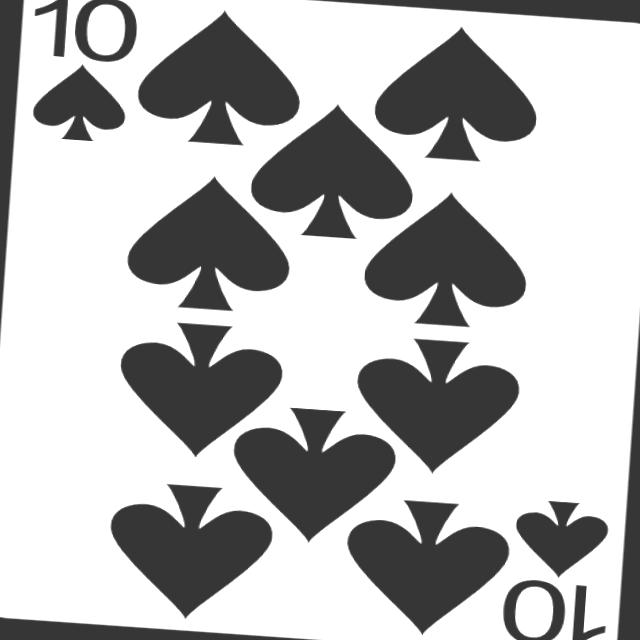Spade: (122, 168, 296, 316), (350, 334, 524, 480), (112, 317, 286, 463), (226, 403, 399, 549), (339, 495, 513, 640), (246, 97, 419, 242), (134, 3, 306, 148), (359, 186, 532, 330), (103, 480, 276, 624), (371, 21, 542, 166), (30, 60, 128, 143), (512, 498, 610, 581)
